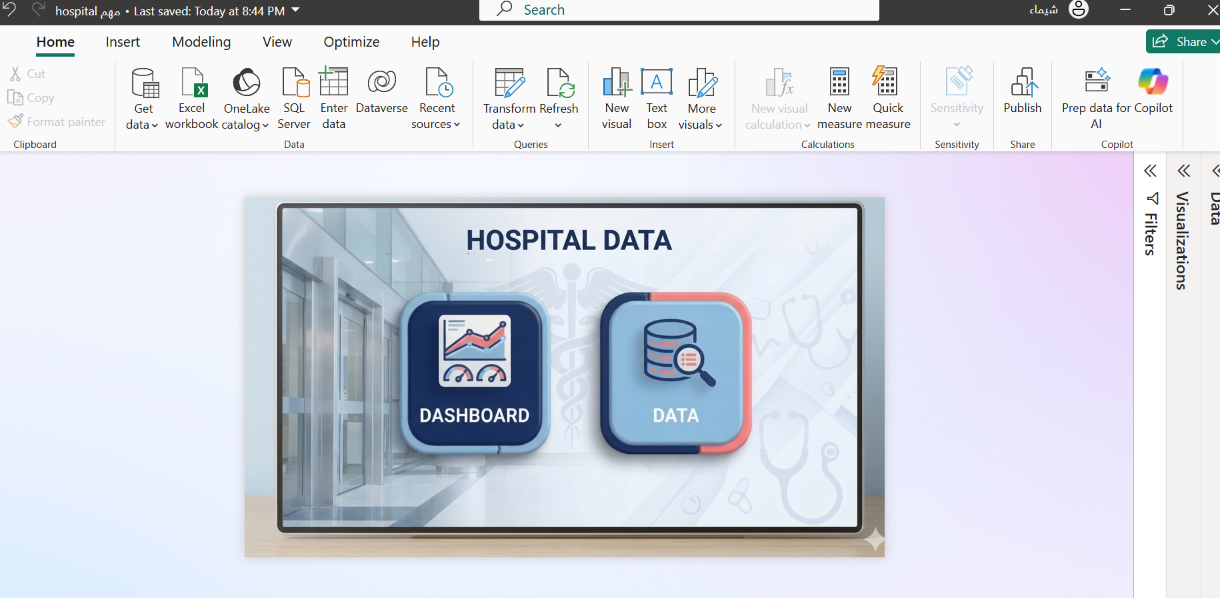

This screenshot's page, from the dashboard's own definition file:
{"tool":"powerbi","page":{"name":"Home","canvas":[1280,720],"ordinal":0},"visuals":[{"type":"actionButton","box":[323.3,213.3,270,266.7],"z":0},{"type":"actionButton","box":[723.3,213.3,270,266.7],"z":1000}]}

Visuals, with their boxes on the page's 1280x720 design canvas (x1, y1, x2, y2). These are canvas units, not pixel positions in the 1220x598 screenshot, which may show the page scaled, cropped or inside an application window:
actionButton: x1=323, y1=213, x2=593, y2=480
actionButton: x1=723, y1=213, x2=993, y2=480
